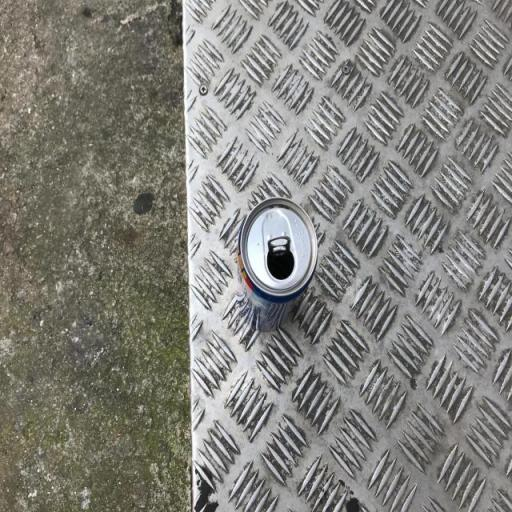metal: (215, 181, 371, 384)
